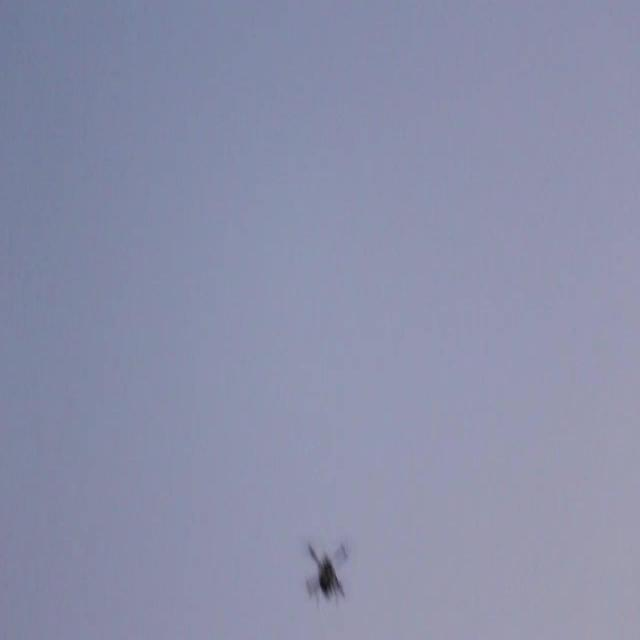UAV: (305, 542, 349, 610)
